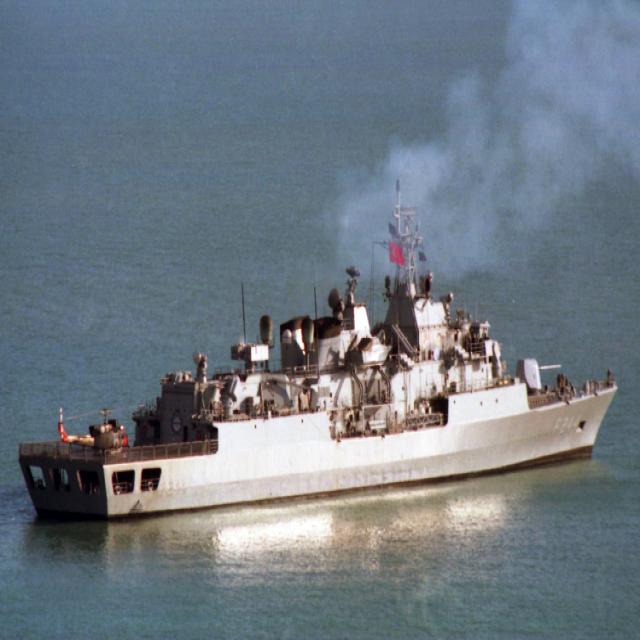Fragata: (15, 183, 619, 526)
